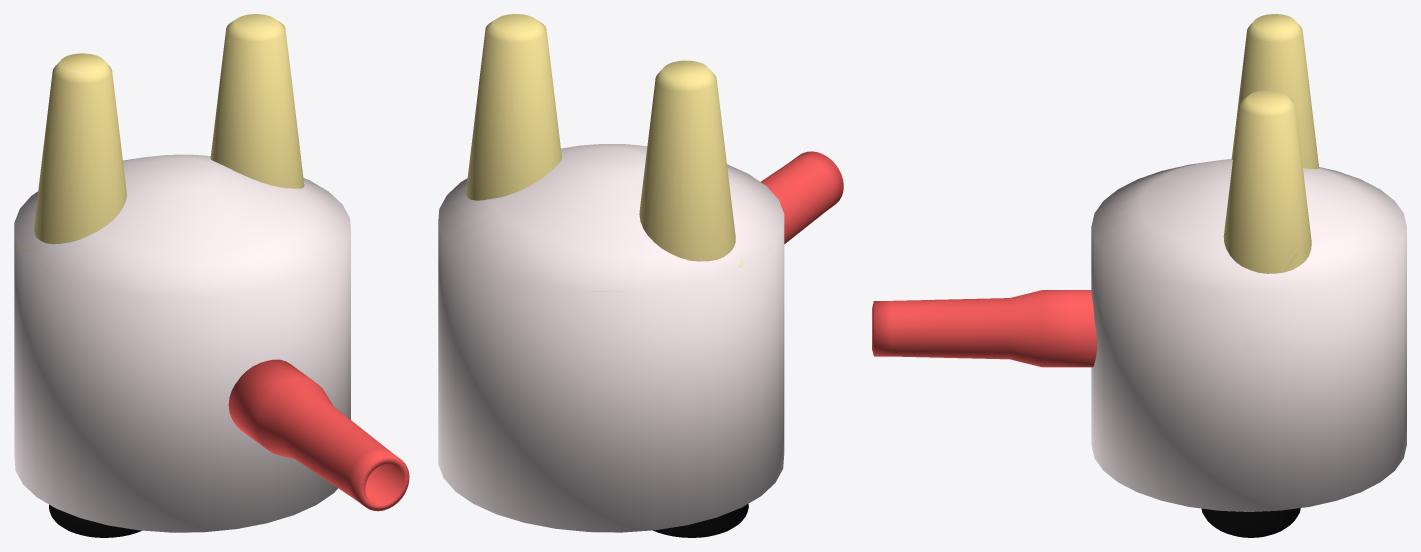
The model's file is RabbitColoured.fbx.
3 renders of one model, left to right at view 1: azimuth 30°, elevation 25°; view 2: azimuth 150°, elevation 25°; view 3: azimuth 270°, elevation 25°, orthographic. The views are drawn at different scales.
Parts seen in each view (by area): view 1: Cylinder; view 2: Cylinder; view 3: Cylinder.
Part boxes in pixels (bbox=[...]): Cylinder: bbox=[14, 14, 409, 537]; Cylinder: bbox=[438, 14, 843, 537]; Cylinder: bbox=[872, 14, 1406, 537].
Bounding box in the file's own units: 200 × 301 × 339.
